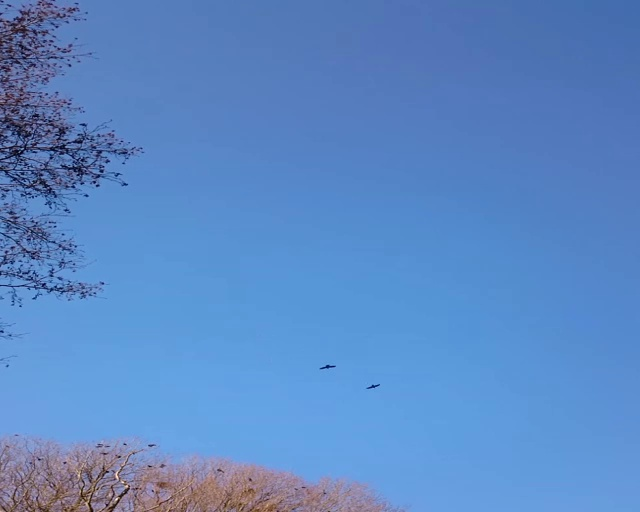BIRD: (365, 383, 380, 389)
